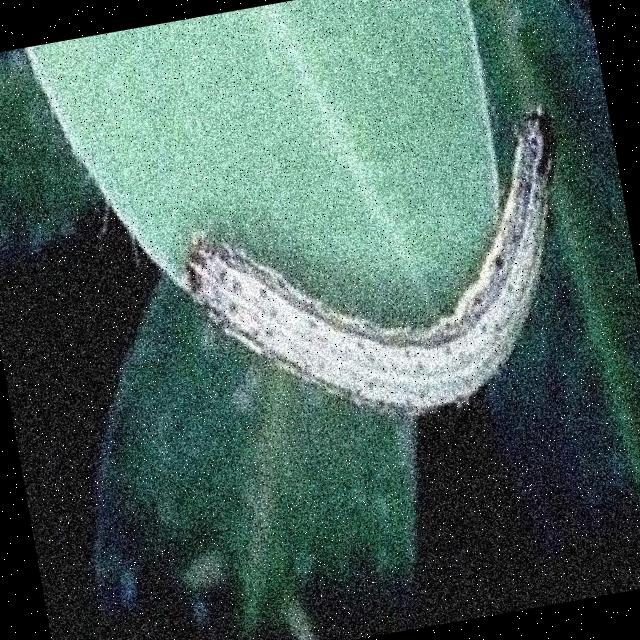worm: (164, 104, 599, 457)
